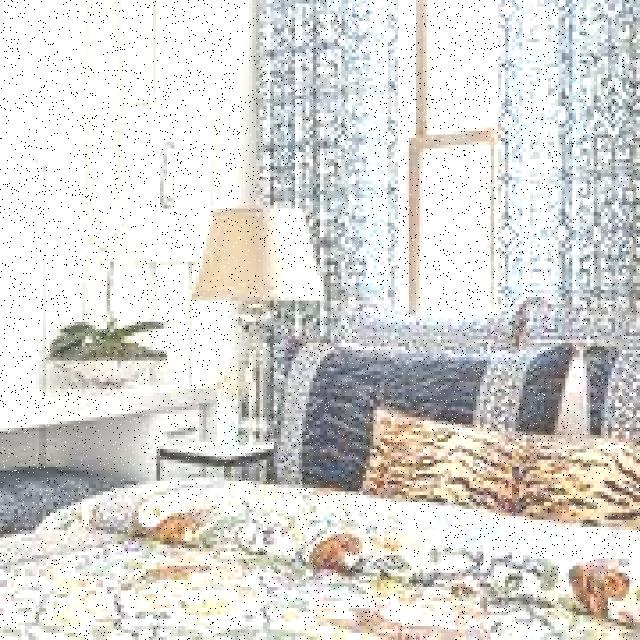bed: (15, 296, 640, 640)
